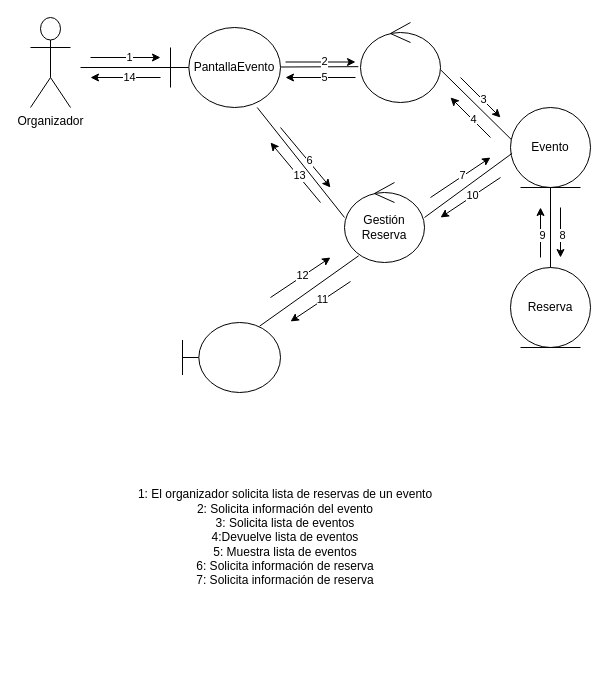
The diagram is 608 pixels wide and 675 high, and some of its shapes have lost their labels. Here are the shapes that lost their labels. From the top down, the centre of each, then its label:
At [400,62]: "Gestión Evento".
At [231,357]: "Reporte Reservas".
